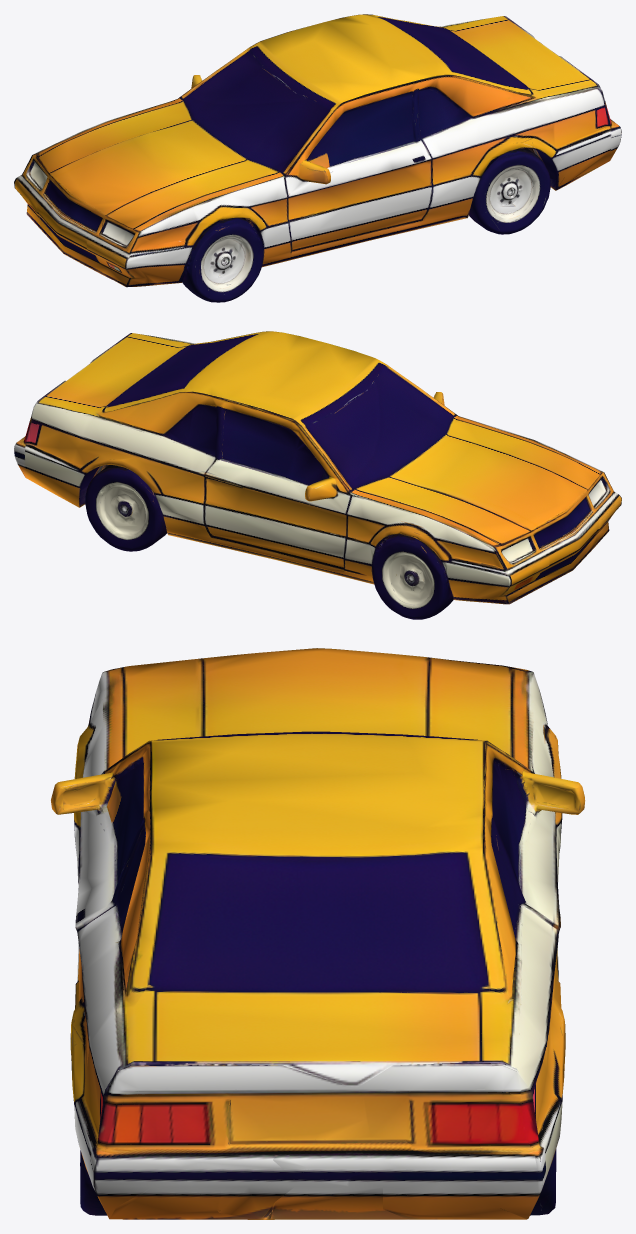
File: car_rival_b.glb
The picture shows the model from 3 angles, top to bottom: view 1: azimuth 30°, elevation 25°; view 2: azimuth 150°, elevation 25°; view 3: azimuth 270°, elevation 25°; orthographic projection. The views are drawn at different scales.
Visible parts, largest first — view 1: Mesh_0; view 2: Mesh_0; view 3: Mesh_0.
Boxes of the visible parts, <box> form: Mesh_0: <box>14,14,621,302</box>; Mesh_0: <box>14,331,621,619</box>; Mesh_0: <box>51,648,585,1219</box>.
Size of the model in its own units: 1.9 by 0.5753 by 0.8613.
Materials: 1 (1 with a texture image).
